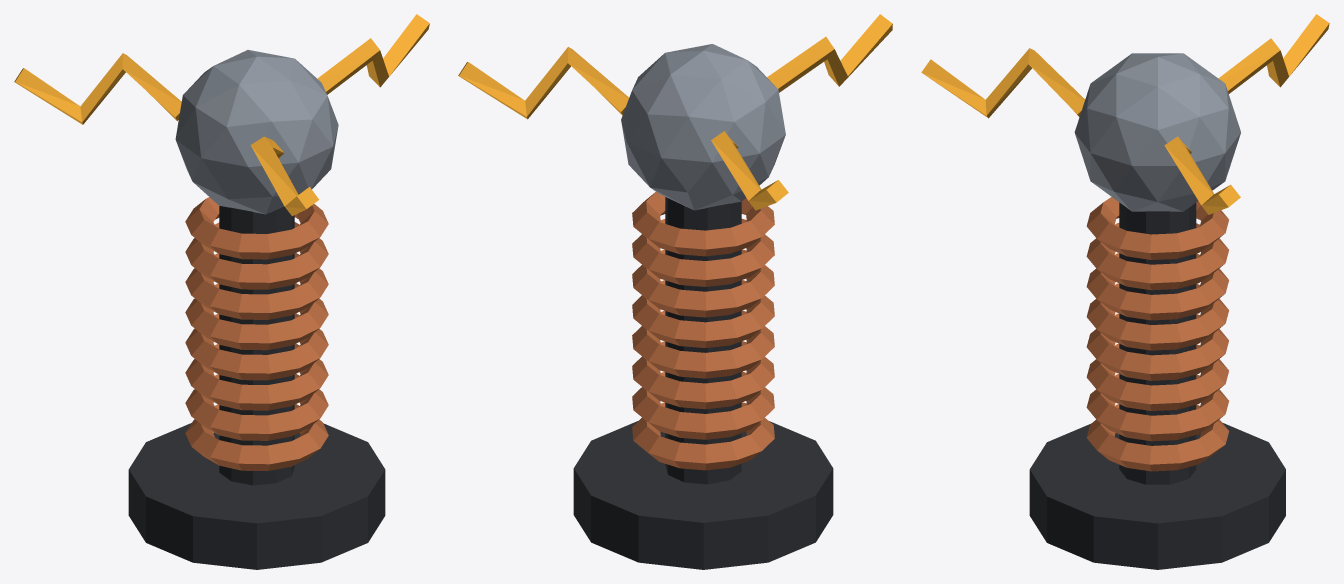
The model's file is GearTeslaCoil.obj.
The picture shows the model from 3 angles, left to right: view 1: azimuth 30°, elevation 25°; view 2: azimuth 150°, elevation 25°; view 3: azimuth 270°, elevation 25°; orthographic projection.
Visible parts, largest first — view 1: GearTeslaCoil; view 2: GearTeslaCoil; view 3: GearTeslaCoil.
Part boxes in pixels (bbox=[...]): GearTeslaCoil: bbox=[14, 14, 429, 569]; GearTeslaCoil: bbox=[458, 14, 892, 569]; GearTeslaCoil: bbox=[921, 14, 1329, 569].
Bounding box in the file's own units: 0.3333 × 0.395 × 0.3186.
